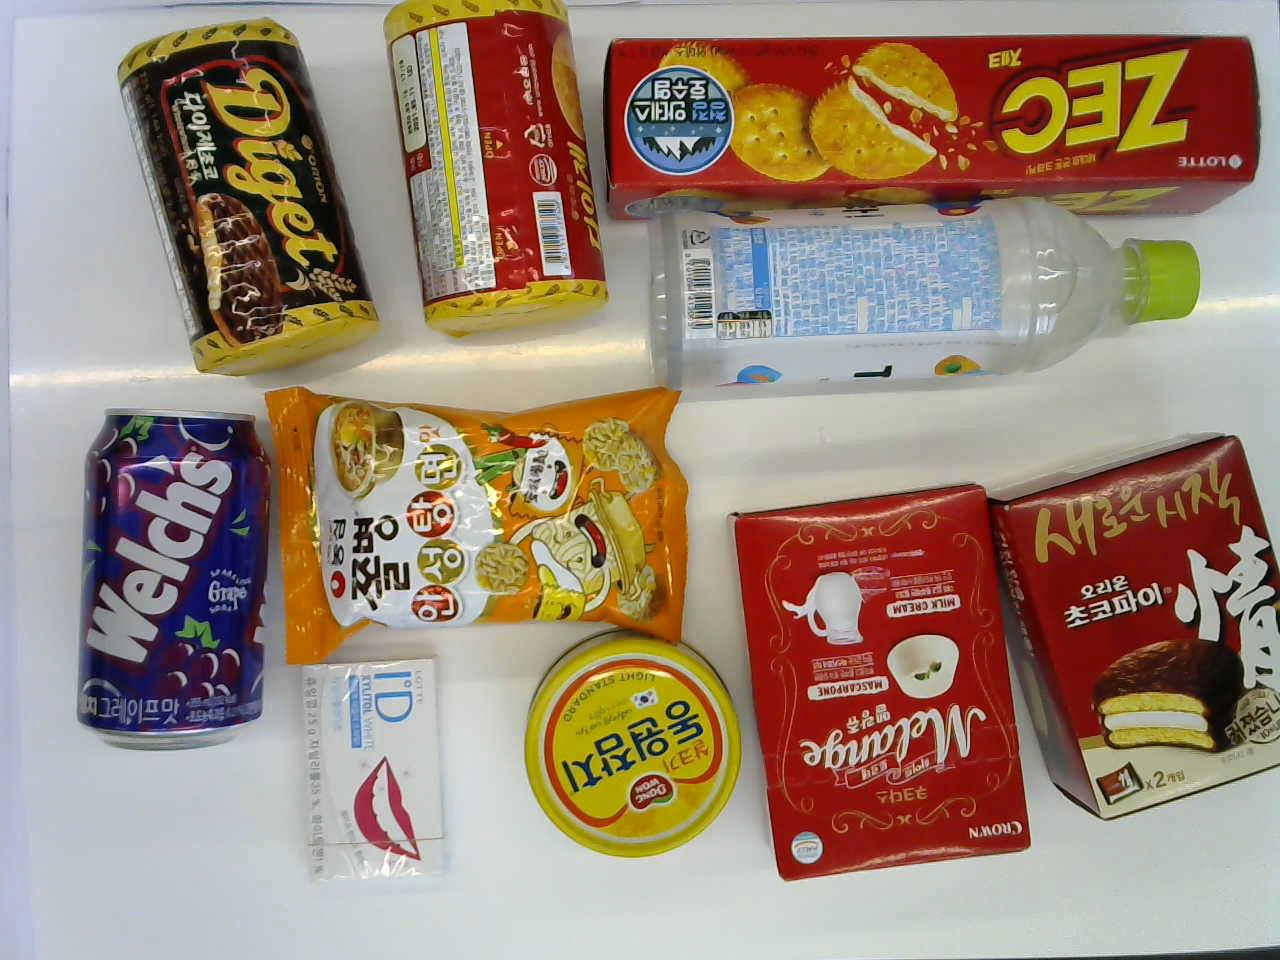ID_gum: (281, 653, 454, 894)
chocopie: (1000, 432, 1279, 835)
couque_white: (728, 476, 1031, 894)
diget_choco: (104, 22, 374, 381)
diget_ori: (365, 0, 611, 355)
jjolbyung_noodle: (265, 390, 693, 661)
toreta: (623, 190, 1201, 397)
tuna: (509, 630, 741, 880)
welchs: (62, 397, 274, 772)
zec: (600, 17, 1264, 221)
